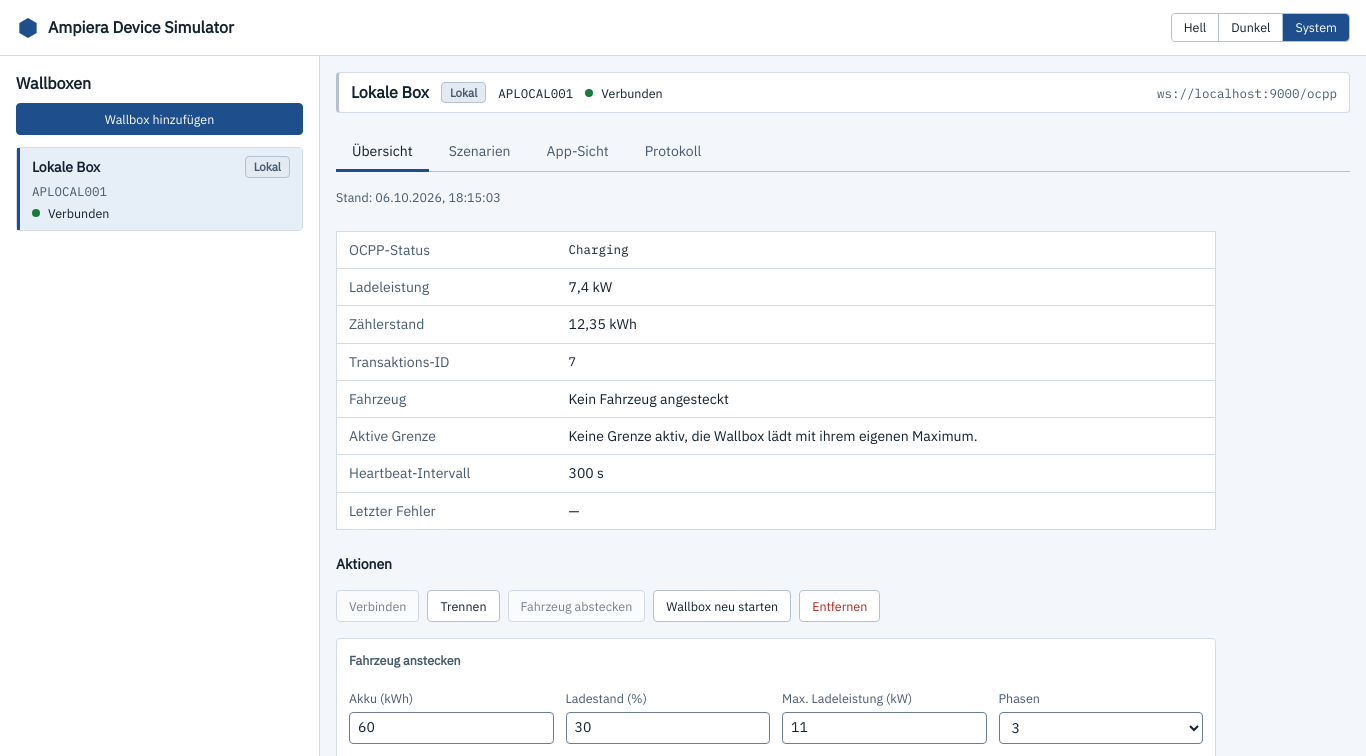
Test: App › shows command errors next to the actions
Click the button "Wallbox neu starten": (722, 606) [653,590,791,622]
(page scrolled)
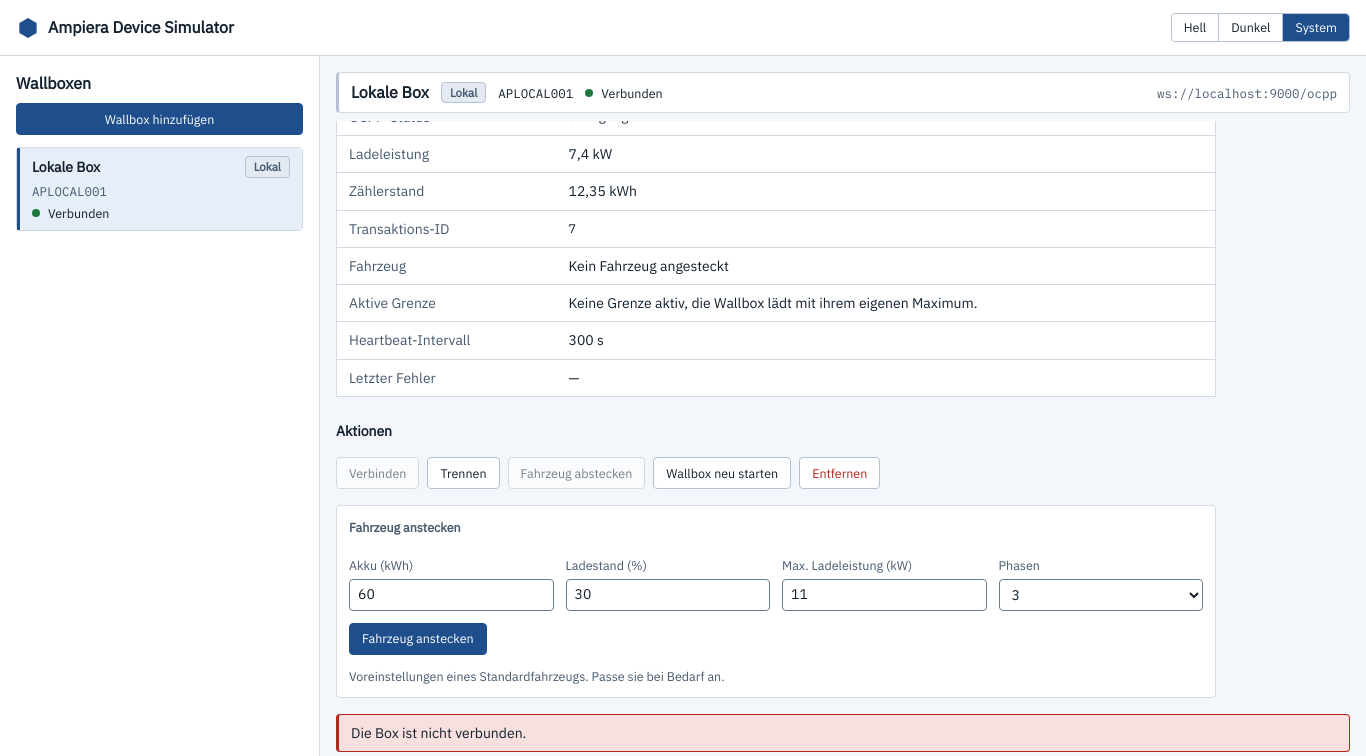
Result: the message reads "Die Box ist nicht verbunden." at [351,724,526,742]
